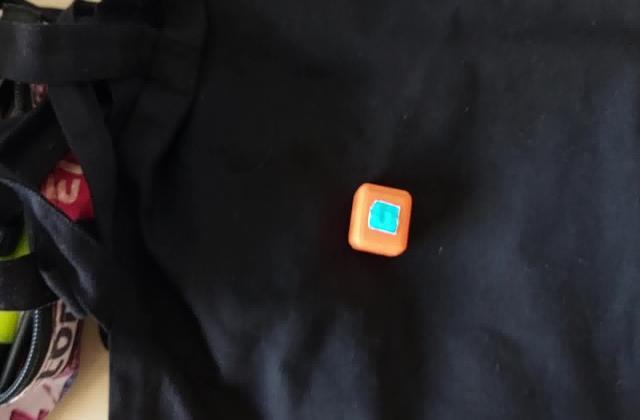blue: (376, 206, 394, 226)
sticker: (346, 182, 414, 261)
